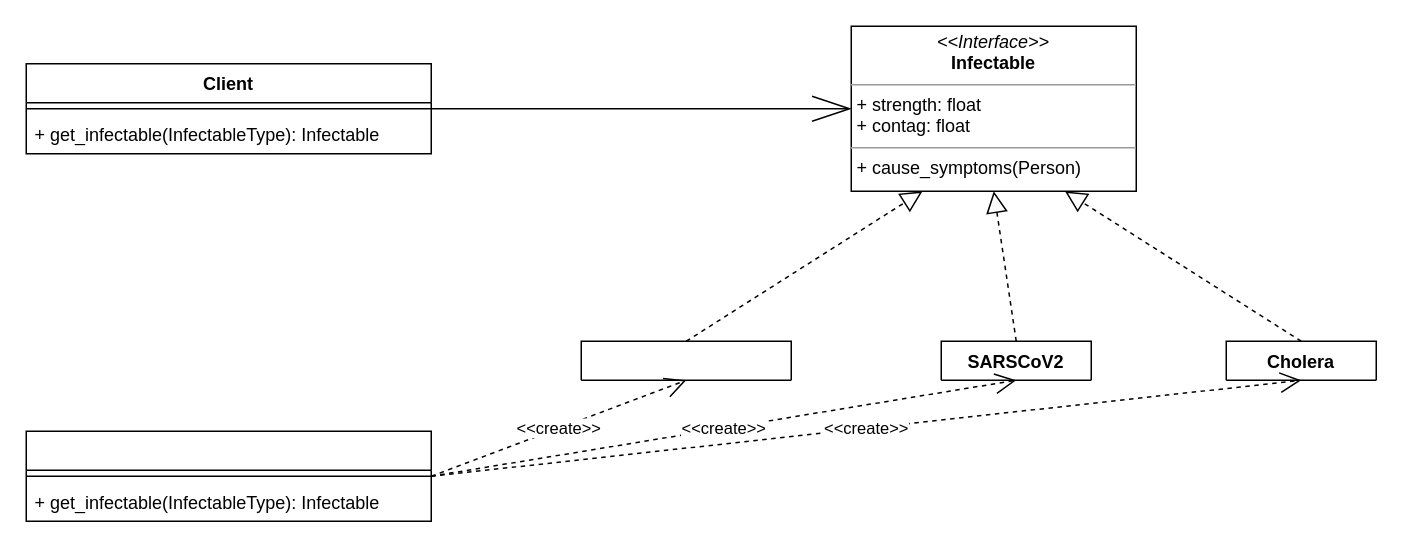
Image size: 1403x552. Some labels were removed from this diagram. Each missing label, with the box of its shape:
InfectableFactoryMethod: (25, 430, 431, 521)
SeasonalFluVirus: (580, 340, 791, 380)
